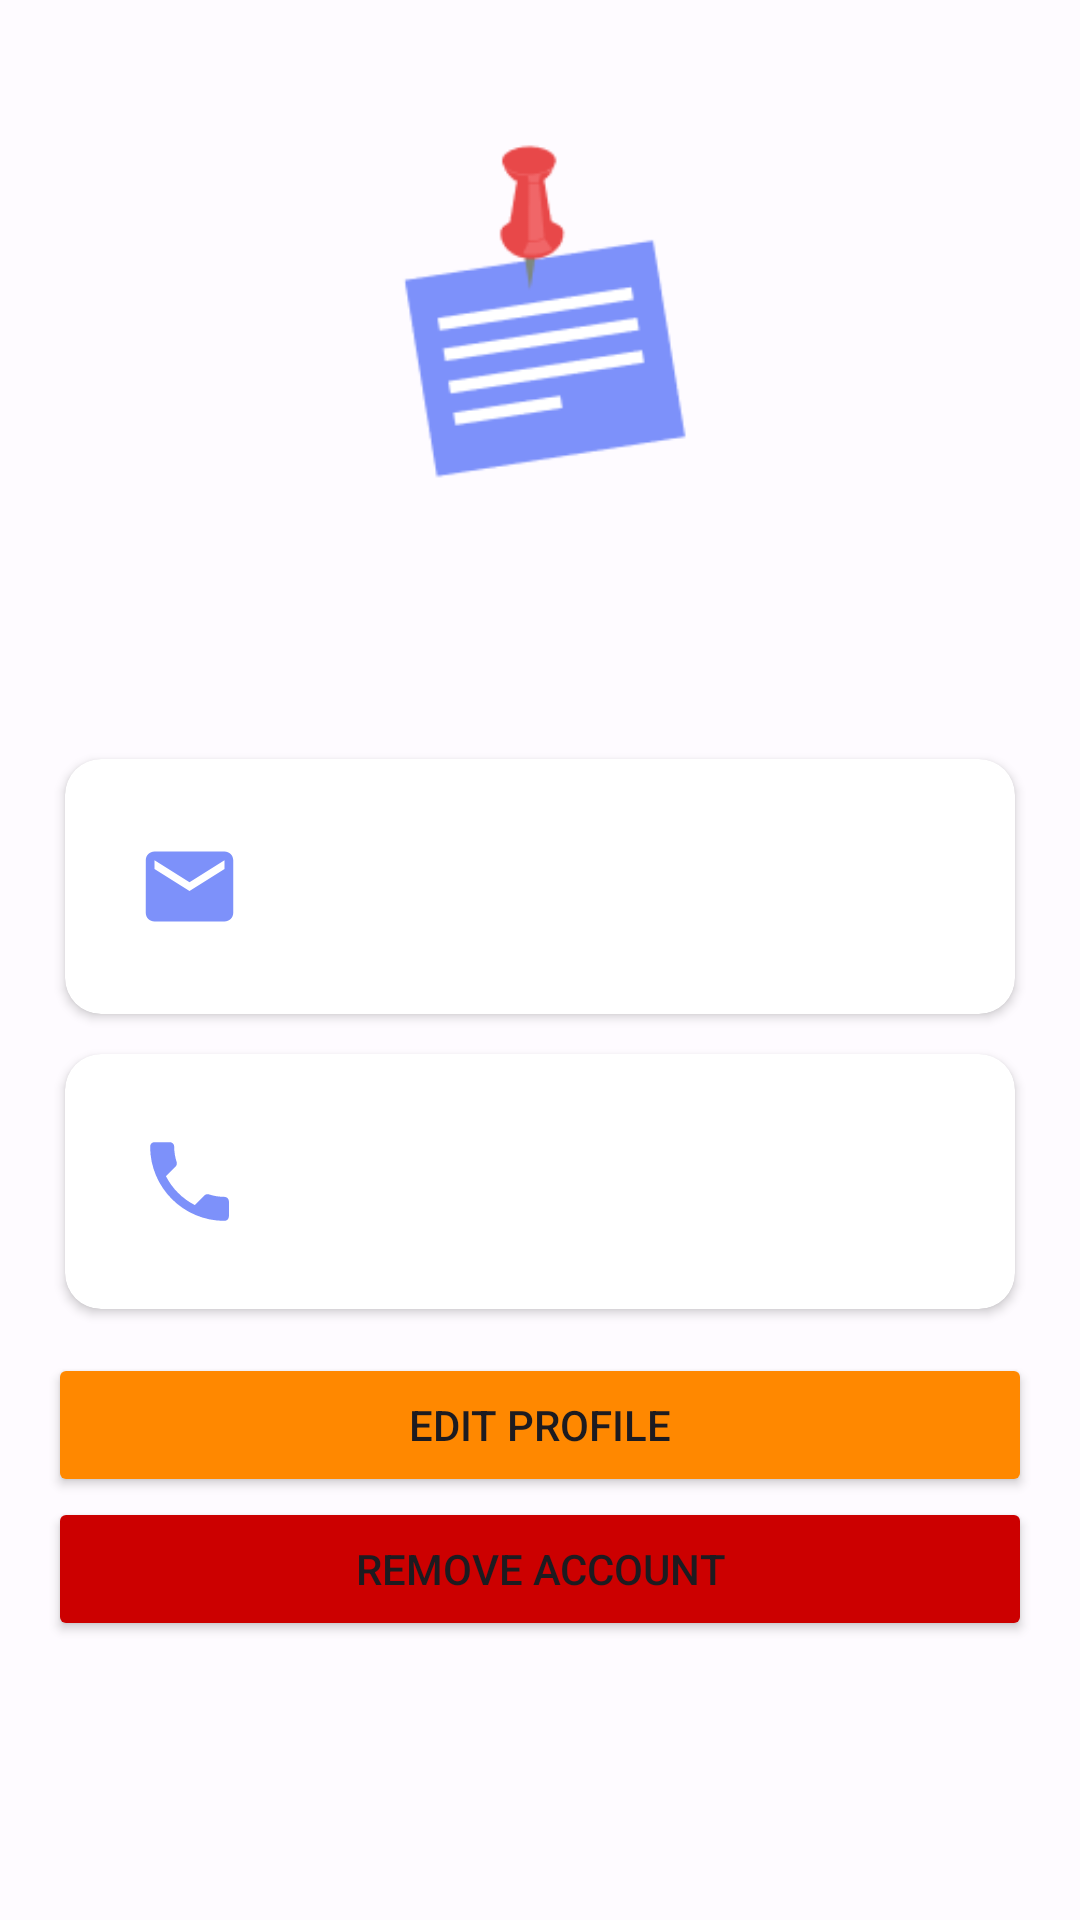

Screen size 1080x1920. Icon name, then its box in pixels as (x1, y1, x2, y2):
note: (405, 145, 686, 477)
